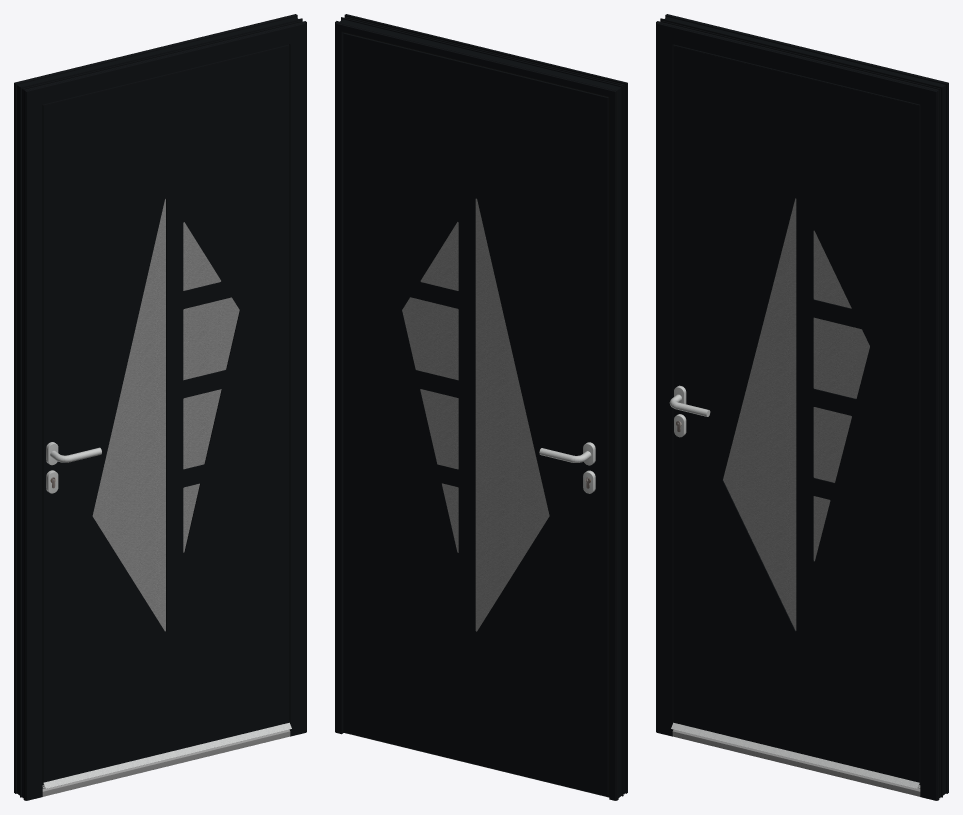
3 renders of one model, left to right at view 1: azimuth 30°, elevation 25°; view 2: azimuth 150°, elevation 25°; view 3: azimuth 330°, elevation 25°, orthographic.
Parts seen in each view (by area): view 1: bloco_40, aroFixo, Plane001, aroMovel, rodapé, escovas, puxador001; view 2: bloco_40, aroFixo, Plane002, aroMovel, puxador; view 3: bloco_40, aroFixo, Plane001, aroMovel, rodapé, escovas, puxador001.
Part boxes in pixels (<box>): bloco_40: <box>44,46,289,782</box>; aroFixo: <box>14,14,306,800</box>; Plane001: <box>92,199,239,631</box>; aroMovel: <box>42,44,289,784</box>; rodapé: <box>42,729,290,796</box>; escovas: <box>42,722,291,788</box>; puxador001: <box>46,442,101,493</box>; bloco_40: <box>344,34,607,795</box>; aroFixo: <box>335,14,627,800</box>; Plane002: <box>402,198,549,631</box>; aroMovel: <box>343,32,609,796</box>; puxador: <box>539,442,595,493</box>; bloco_40: <box>673,46,918,782</box>; aroFixo: <box>656,14,948,800</box>; Plane001: <box>723,198,869,630</box>; aroMovel: <box>673,44,920,784</box>; rodapé: <box>672,729,920,796</box>; escovas: <box>671,722,920,788</box>; puxador001: <box>669,385,710,437</box>.
Size of the model in its own units: 900 by 2165 by 209.
Materials: 7 (3 with a texture image).
